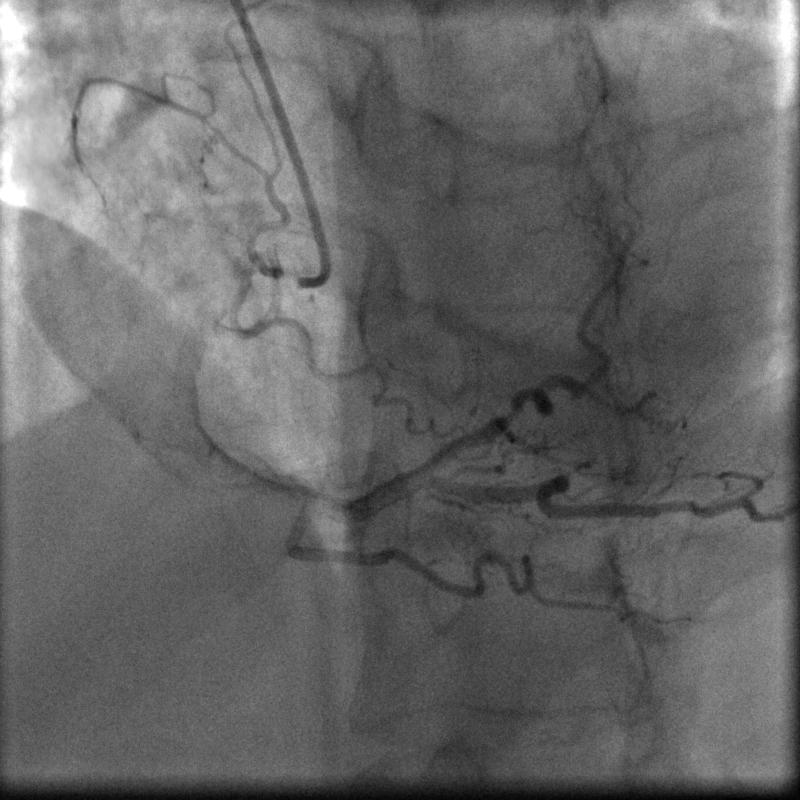Stenosis: (495, 396, 522, 426)
